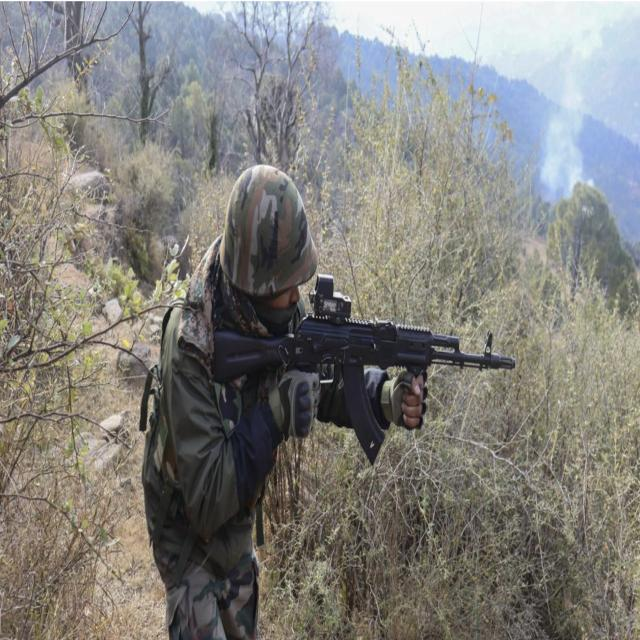Forest: (1, 0, 640, 640), (127, 138, 460, 640)
